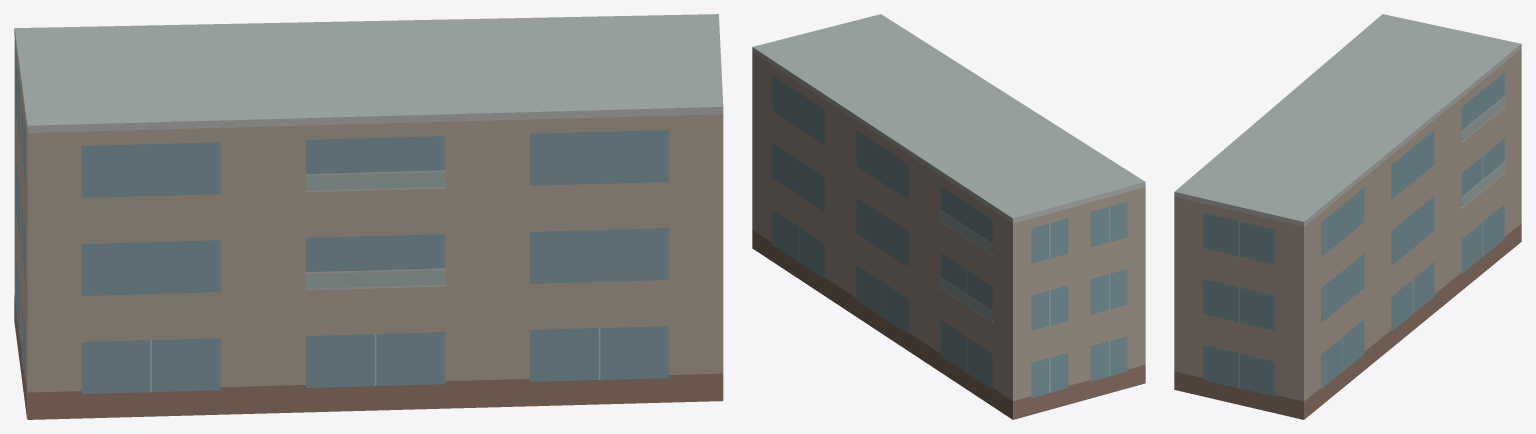
File: survey-upis-32894251.glb
3 renders of one model, left to right at view 1: azimuth 30°, elevation 25°; view 2: azimuth 150°, elevation 25°; view 3: azimuth 270°, elevation 25°, orthographic. The views are drawn at different scales.
Parts seen in each view (by area): view 1: survey-upis-32894251.tmp; view 2: survey-upis-32894251.tmp; view 3: survey-upis-32894251.tmp.
Part boxes in pixels (box(x1,y1,x2,y2)): survey-upis-32894251.tmp: box(14, 14, 723, 419); survey-upis-32894251.tmp: box(752, 14, 1145, 419); survey-upis-32894251.tmp: box(1174, 14, 1521, 419).
Size of the model in its own units: 21.9 by 9.72 by 15.46.
